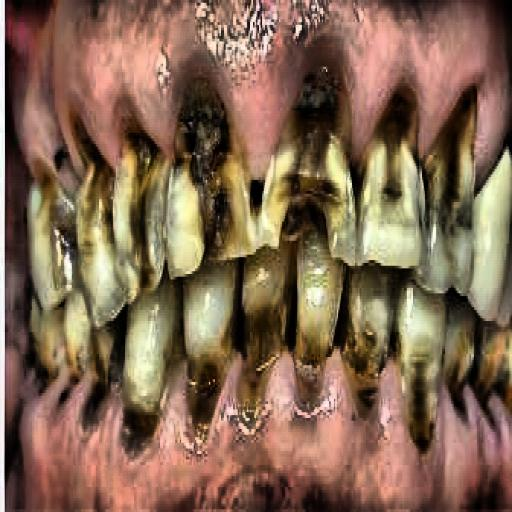Gingivitis: (13, 0, 512, 142), (18, 357, 466, 512)
